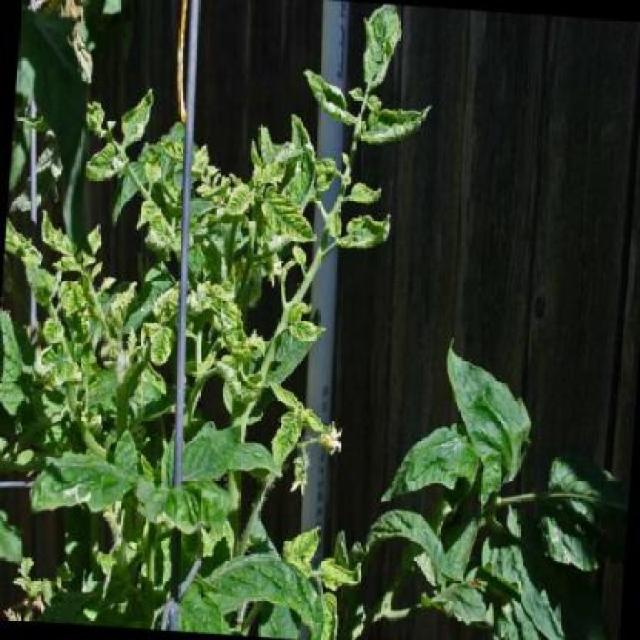Healthy Leaf: (21, 430, 146, 527), (161, 414, 249, 497), (199, 266, 262, 362), (353, 95, 441, 159), (330, 207, 404, 264), (252, 187, 318, 250), (262, 399, 315, 473), (37, 198, 83, 266), (120, 84, 160, 150), (35, 343, 86, 390), (219, 174, 262, 226), (286, 303, 335, 348), (141, 319, 178, 373), (250, 150, 294, 194), (55, 274, 95, 319), (83, 143, 121, 187), (346, 176, 388, 211), (40, 316, 71, 352)
